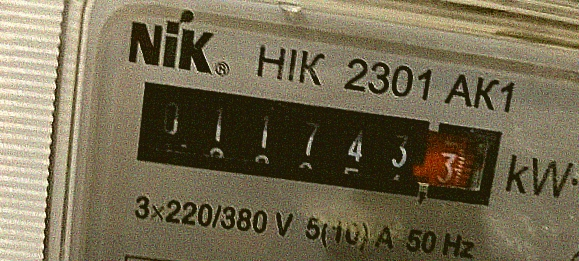0: (157, 97, 183, 138), (206, 102, 229, 145)
1: (253, 108, 273, 151)
3: (386, 127, 411, 173), (433, 146, 457, 186)
4: (342, 122, 366, 164)
7: (295, 113, 323, 160)
screen: (113, 65, 511, 218)
